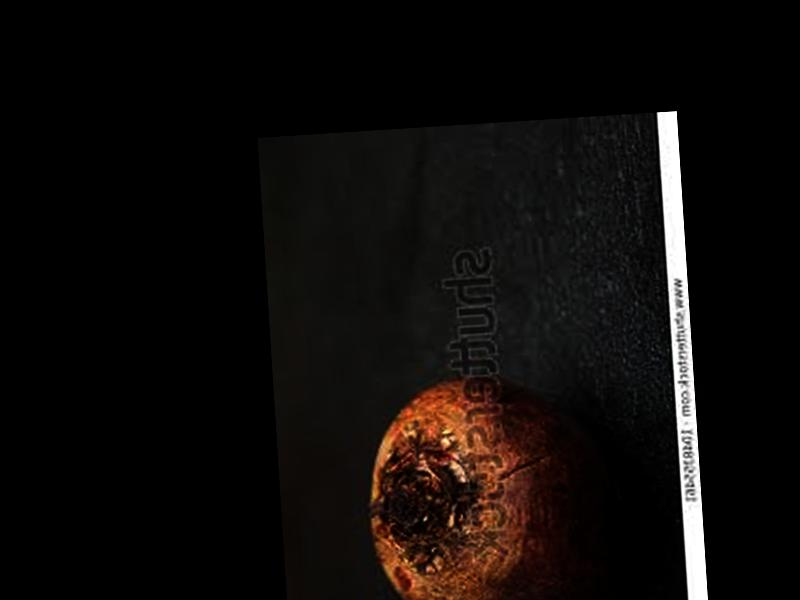Beet: (363, 371, 628, 600)
